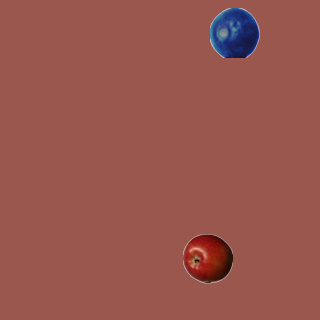Apple Braeburn: (182, 233, 232, 283)
Huckleberry: (209, 7, 259, 57)
